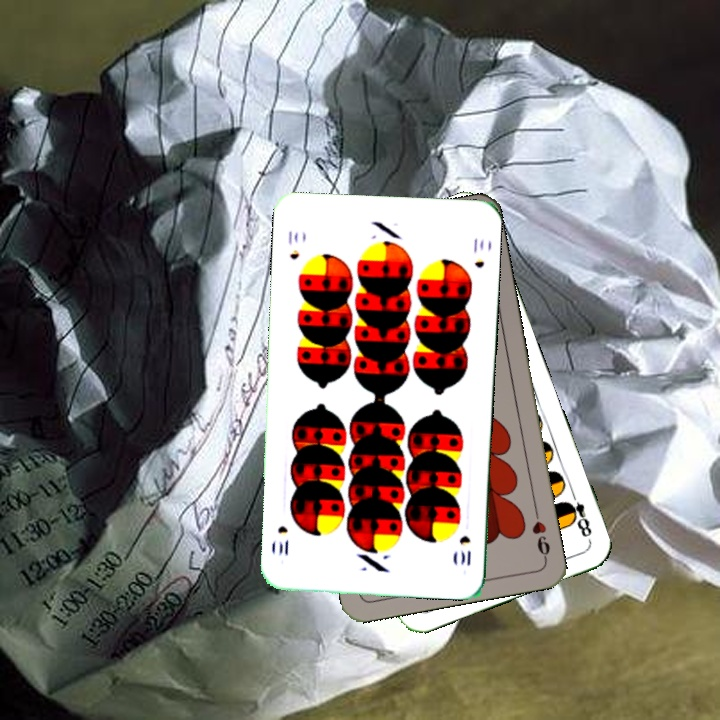E8: (560, 486, 595, 544)
H9: (528, 504, 553, 562)
S10: (284, 227, 302, 262), (456, 531, 473, 568)
